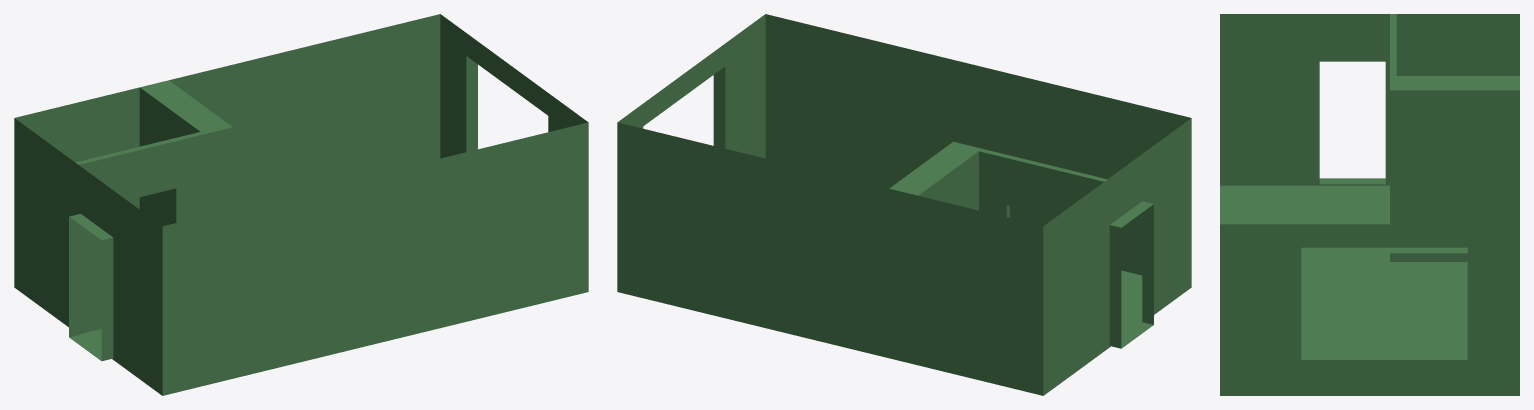
Rendered from Rooms_A_2_2_10.FBX.
The picture shows the model from 3 angles, left to right: view 1: azimuth 30°, elevation 25°; view 2: azimuth 150°, elevation 25°; view 3: azimuth 270°, elevation 25°; orthographic projection.
Parts seen in each view (by area): view 1: Rooms_A_2_2_10; view 2: Rooms_A_2_2_10; view 3: Rooms_A_2_2_10.
Boxes of the visible parts, x1,y1,x2,y2 form: Rooms_A_2_2_10: (14, 14, 588, 395); Rooms_A_2_2_10: (617, 14, 1191, 395); Rooms_A_2_2_10: (1220, 14, 1519, 395).
Bounding box in the file's own units: 7.76 × 2.8 × 4.43.
